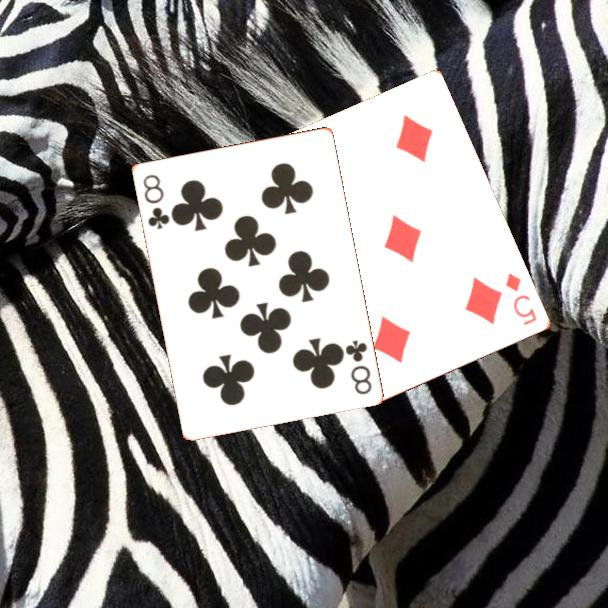c08: (139, 171, 172, 232), (341, 336, 374, 397)
d05: (502, 269, 540, 328)
